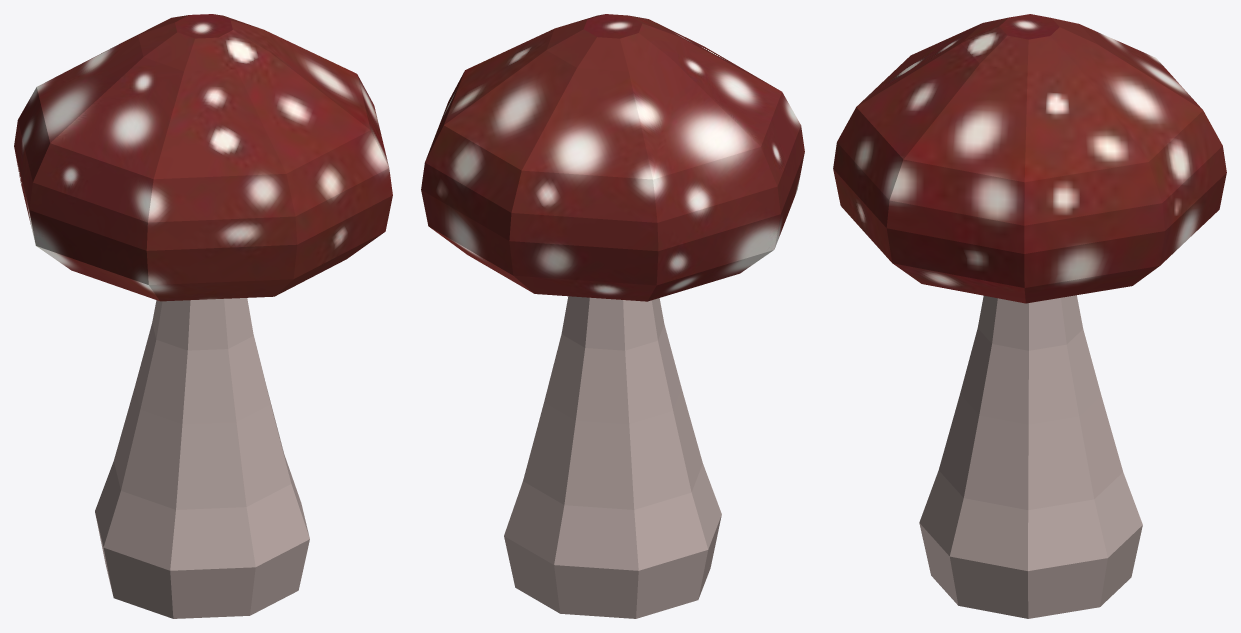
File: Hackaton_Mushroom.fbx
3 views of the same model, side by side, from view 1: azimuth 30°, elevation 25°; view 2: azimuth 150°, elevation 25°; view 3: azimuth 270°, elevation 25° (orthographic).
Parts seen in each view (by area): view 1: Mushroom; view 2: Mushroom; view 3: Mushroom.
Boxes of the visible parts, <box> form: Mushroom: <box>14,14,392,618</box>; Mushroom: <box>421,14,804,618</box>; Mushroom: <box>833,14,1226,618</box>.
Bounding box in the file's own units: 15.39 × 23.73 × 15.39.
